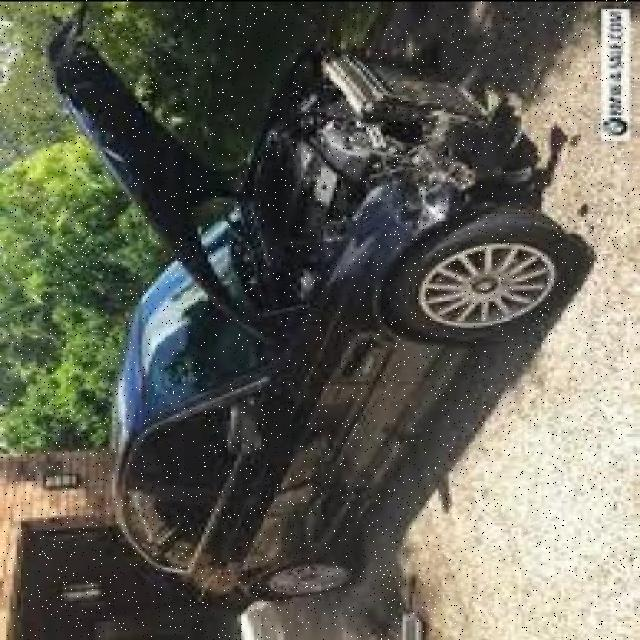damage: (299, 46, 528, 286)
